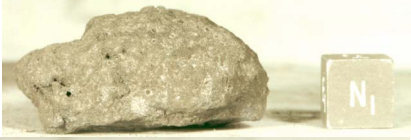Basalt: (15, 8, 290, 136)
